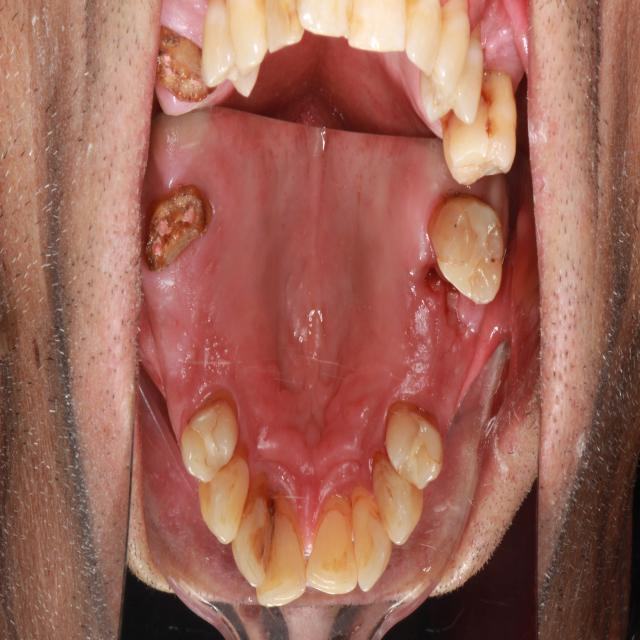tooth: (417, 181, 511, 321), (299, 485, 365, 613), (377, 392, 457, 497), (171, 385, 247, 489), (341, 479, 402, 599), (193, 441, 259, 547), (364, 443, 430, 548), (143, 182, 220, 271), (259, 505, 311, 616), (232, 474, 281, 591)
